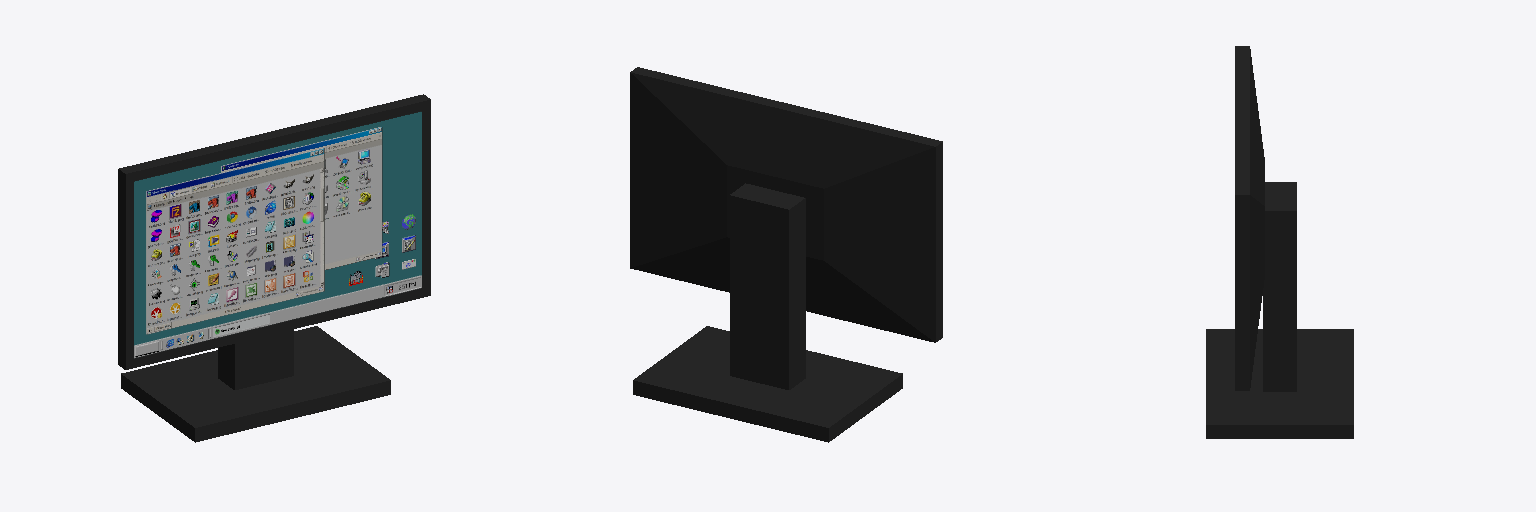
3 views of the same model, side by side, from view 1: azimuth 30°, elevation 25°; view 2: azimuth 150°, elevation 25°; view 3: azimuth 270°, elevation 25° (orthographic).
Parts seen in each view (by area): view 1: monitor; view 2: monitor; view 3: monitor.
Part boxes in pixels (x1,y1,x2,y2): monitor: (118, 94, 430, 442); monitor: (630, 67, 942, 442); monitor: (1206, 46, 1353, 438).
Bounding box in the file's own units: 0.7339 × 0.6219 × 0.3097.
Materials: 1 (1 with a texture image).